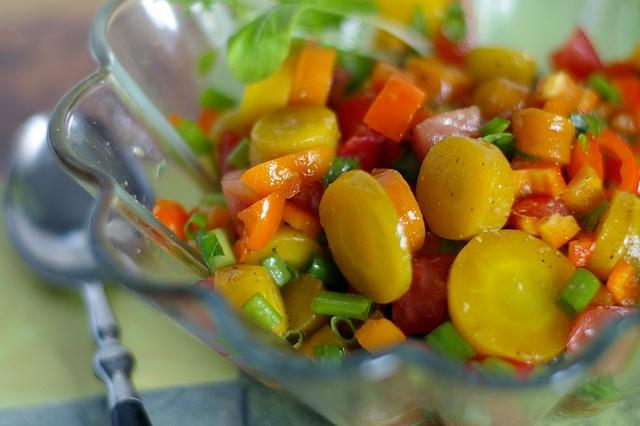carrot: (447, 229, 576, 363), (319, 169, 412, 304), (416, 136, 514, 242), (213, 263, 290, 336), (248, 104, 338, 164), (241, 146, 336, 197), (372, 168, 426, 256), (237, 176, 301, 250), (364, 74, 429, 144), (512, 108, 574, 164), (470, 78, 530, 134), (404, 57, 472, 105), (559, 160, 608, 219), (287, 47, 335, 107), (354, 311, 409, 358), (510, 157, 568, 198), (560, 131, 602, 184), (606, 258, 638, 306), (152, 204, 190, 244), (371, 61, 415, 95), (568, 227, 598, 267), (570, 89, 600, 115), (206, 205, 230, 232), (198, 109, 220, 136)
green onion: (556, 267, 600, 321), (426, 321, 477, 366), (195, 228, 237, 275), (300, 253, 348, 294), (311, 290, 374, 321), (241, 292, 283, 332), (322, 154, 360, 192), (260, 249, 294, 289), (176, 120, 212, 156), (470, 355, 518, 380), (198, 90, 238, 114), (588, 76, 618, 106), (331, 315, 357, 346), (226, 138, 252, 168), (314, 342, 344, 368), (480, 116, 510, 139), (184, 212, 208, 240), (585, 114, 601, 139), (284, 330, 304, 349), (482, 132, 512, 142)
